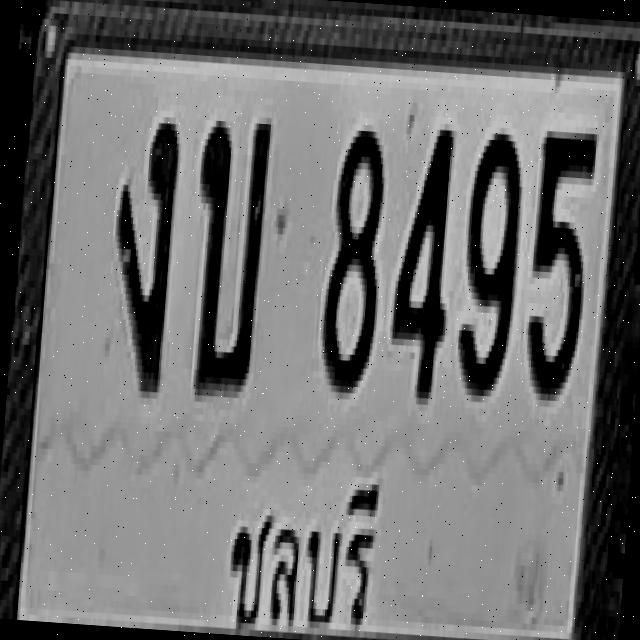16NgorNgu: (104, 114, 180, 392)
35BorBaiMai: (184, 113, 272, 399)
4: (386, 121, 458, 399)
5: (522, 124, 596, 402)
8: (316, 122, 388, 394)
9: (454, 125, 523, 397)
Chonburi: (209, 457, 393, 640)
